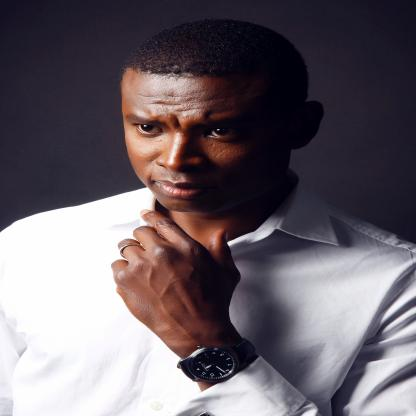Eye: (200, 124, 248, 144), (128, 122, 170, 140)
Mouth: (146, 173, 218, 200)
Nose: (153, 127, 207, 173)
